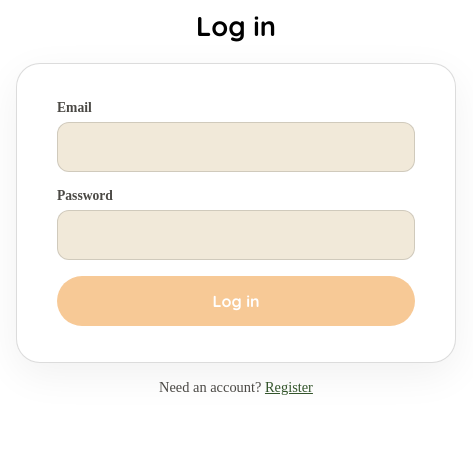
Test: Login › shows one generic message for a wrong password (Story 5)
This screenshot has width=473, height=460.
Type "addie@example.com" into the field labelled "Email". click: [236, 147]
box: [57,122,415,172]
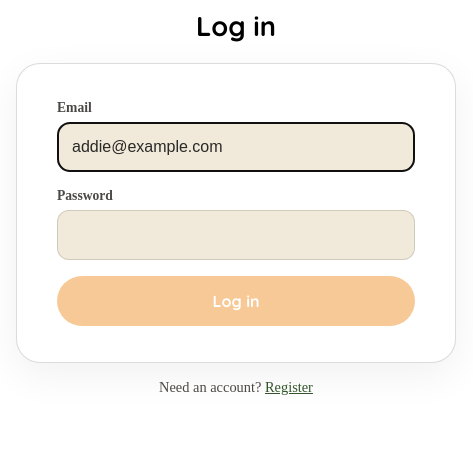
Type "wrong-password" into the password field labelled "Password". click: [236, 235]
box: [57,210,415,260]
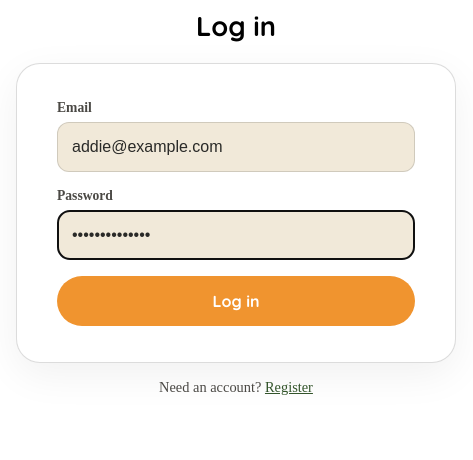
Click the button "Log in". click: [236, 301]
box: [57,276,415,326]
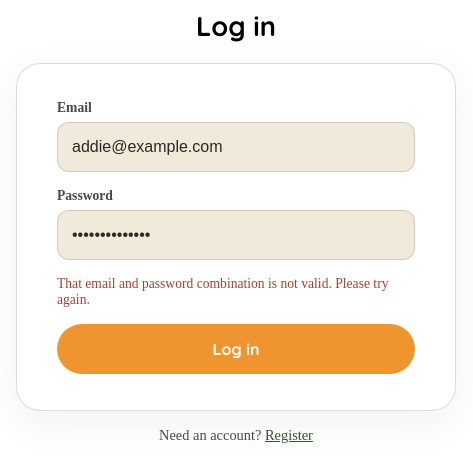
Now the message shows "not valid", box [57,276,388,307]
